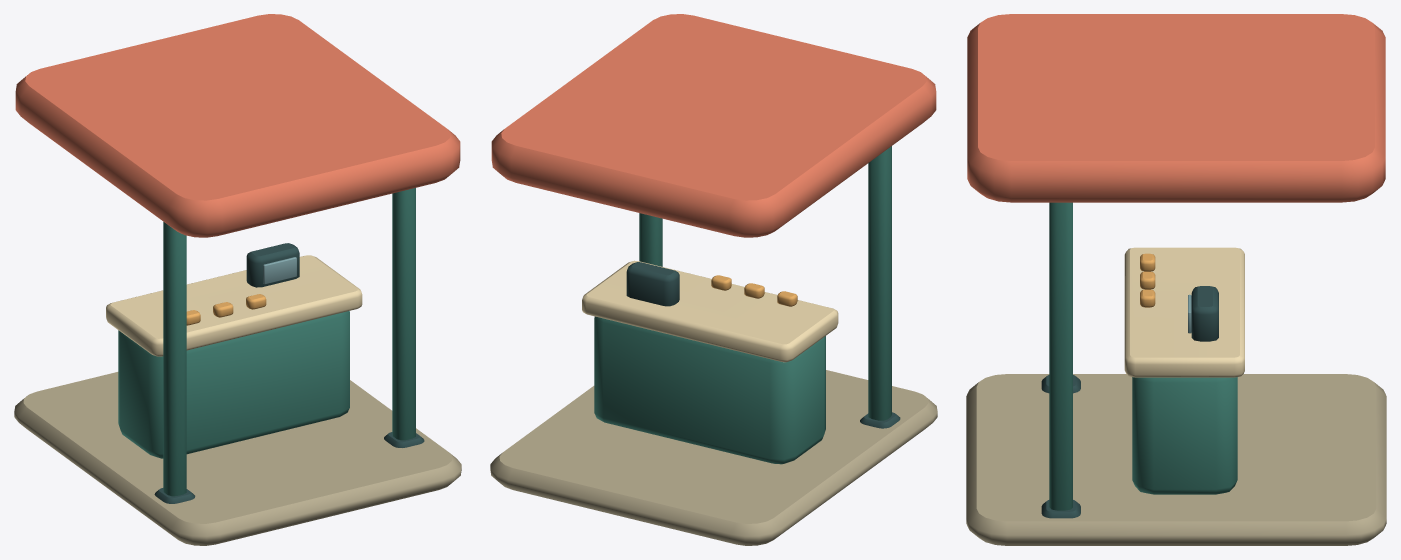
File: tropical_rent_2.glb
3 views of the same model, side by side, from view 1: azimuth 30°, elevation 25°; view 2: azimuth 150°, elevation 25°; view 3: azimuth 270°, elevation 25° (orthographic). The views are drawn at different scales.
Parts seen in each view (by area): view 1: TropicalRent2; view 2: TropicalRent2; view 3: TropicalRent2.
Boxes of the visible parts, <box> form: TropicalRent2: <box>14,14,461,545</box>; TropicalRent2: <box>490,14,937,545</box>; TropicalRent2: <box>966,14,1386,545</box>.
Bounding box in the file's own units: 2.18 × 2.51 × 2.48.
